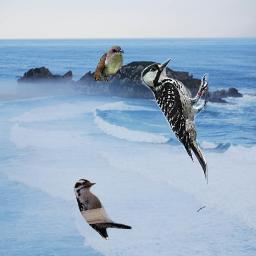Cuckoo: (94, 46, 124, 81)
Woodpecker: (140, 58, 211, 185), (74, 179, 132, 240)
